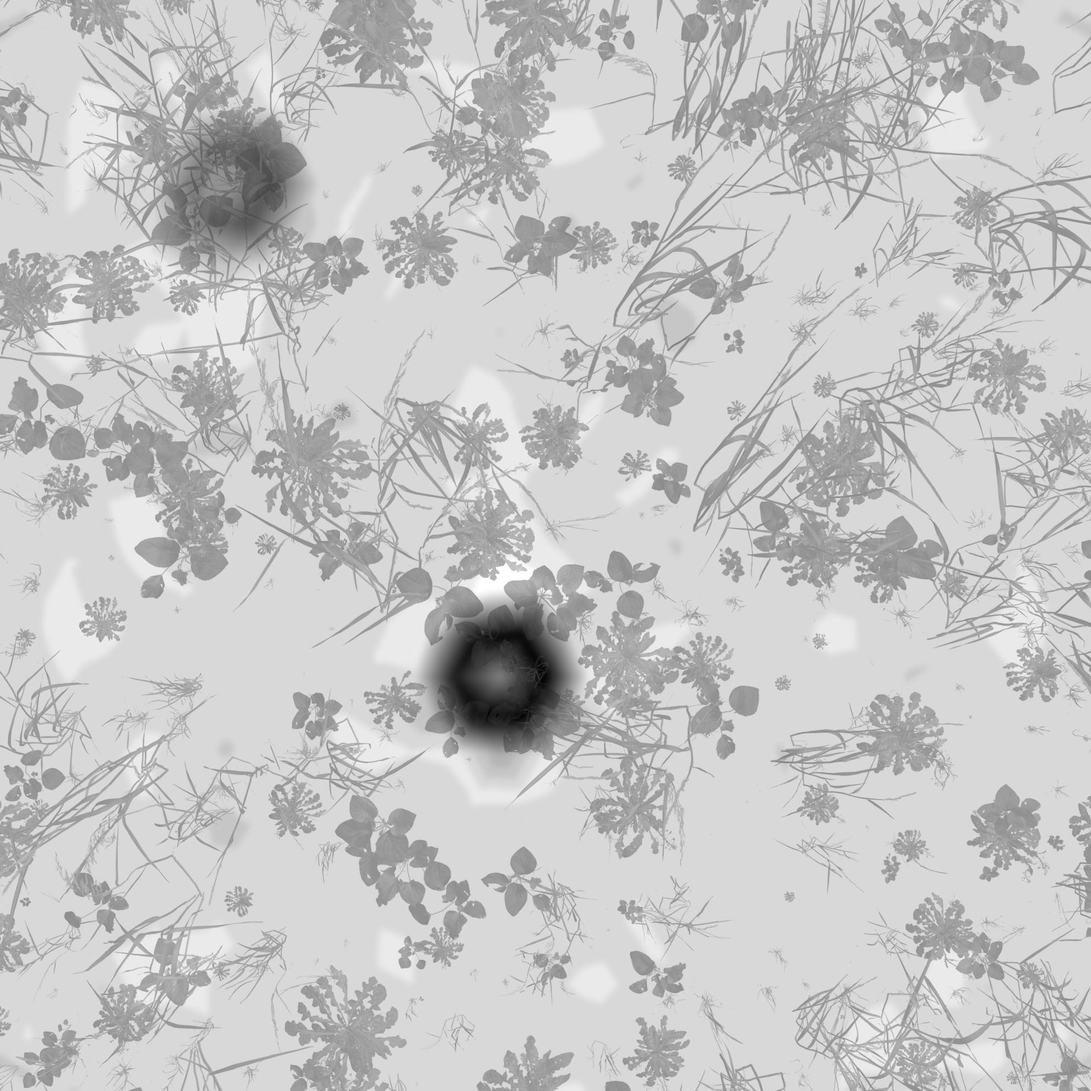landmine: (436, 612, 571, 738)
